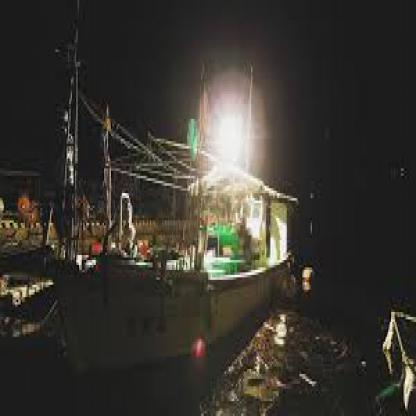fish-b: (38, 0, 310, 394)
